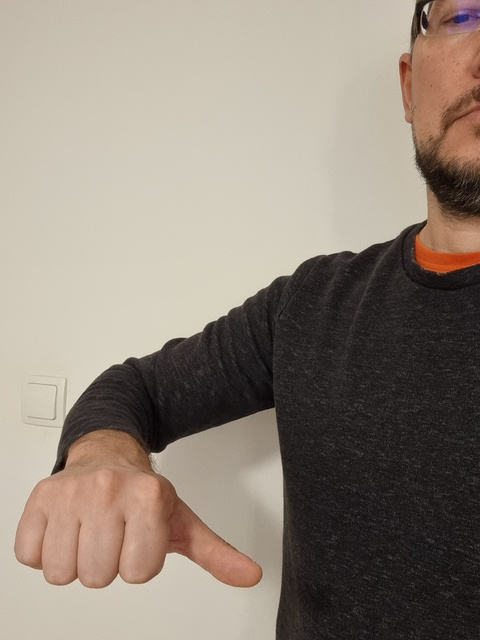GestBack: (14, 468, 263, 588)
